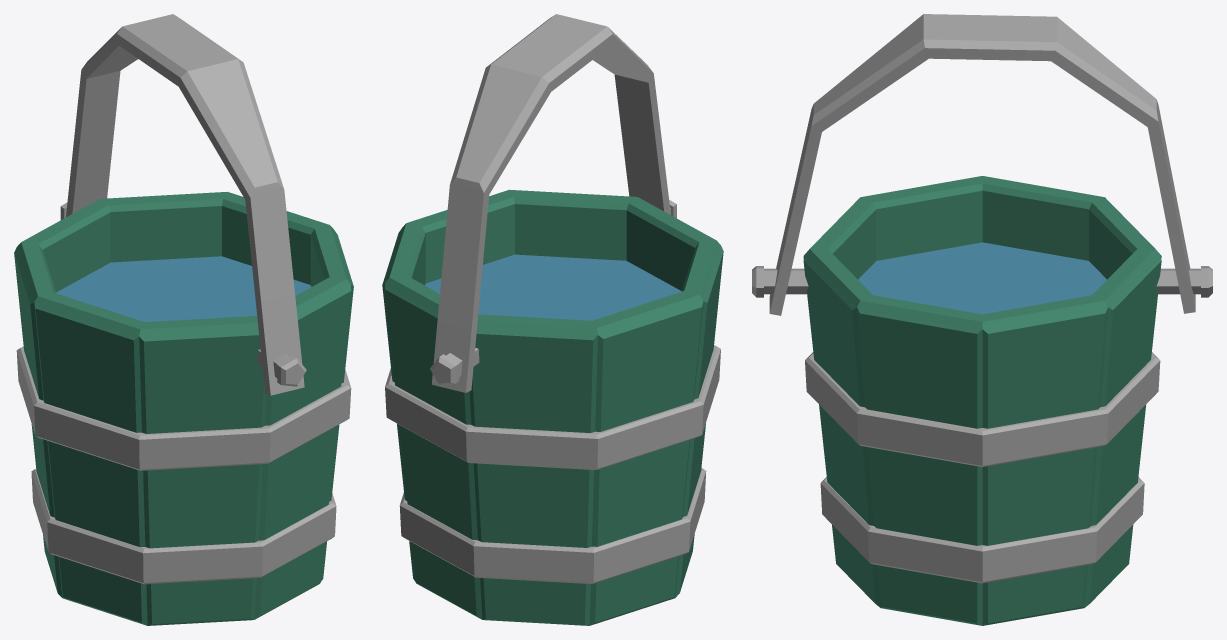
File: bucket_a003.glb
The picture shows the model from 3 angles, left to right: view 1: azimuth 30°, elevation 25°; view 2: azimuth 150°, elevation 25°; view 3: azimuth 270°, elevation 25°; orthographic projection. The views are drawn at different scales.
Parts seen in each view (by area): view 1: bucket_a003; view 2: bucket_a003; view 3: bucket_a003.
Part boxes in pixels (x1,y1,x2,y2): bucket_a003: (14, 14, 353, 625); bucket_a003: (382, 14, 723, 625); bucket_a003: (752, 14, 1212, 625).
Bounding box in the file's own units: 0.2707 × 0.4489 × 0.3482.
Materials: 1 (1 with a texture image).
